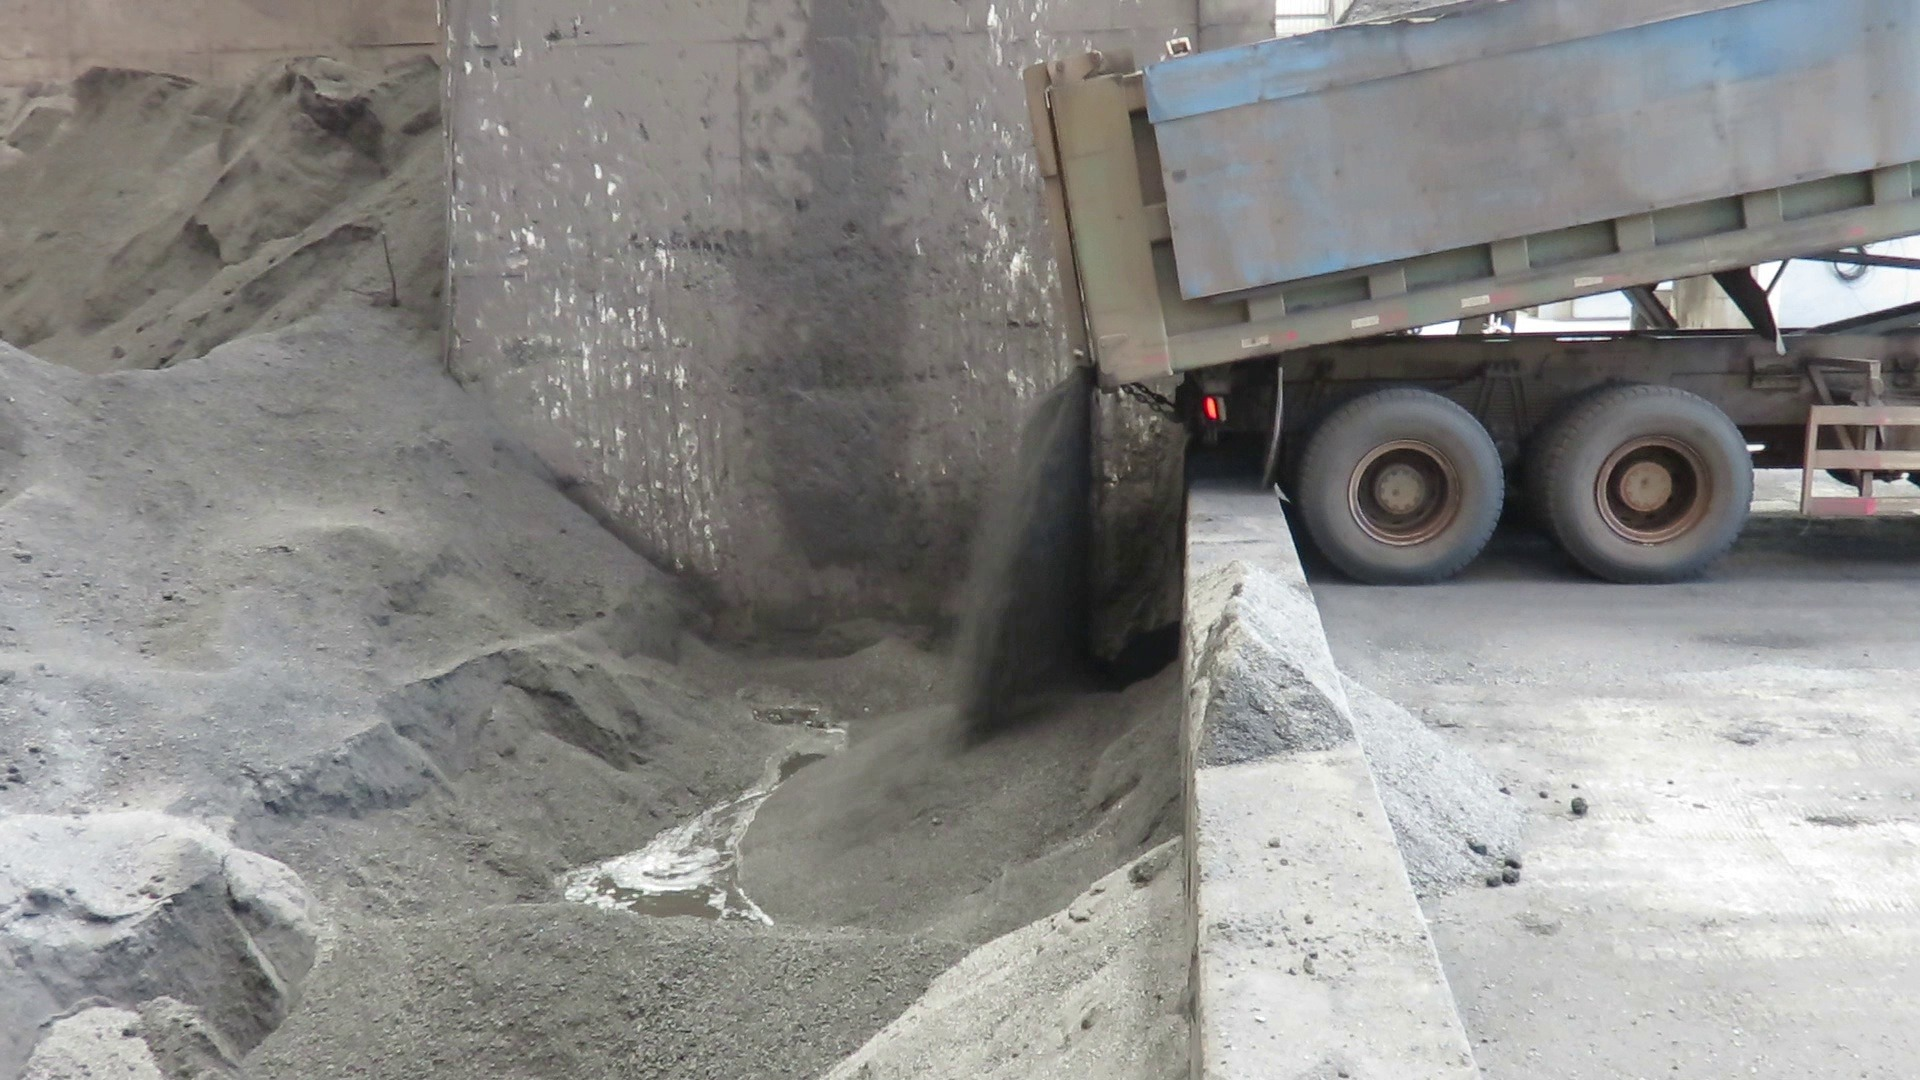truck: (1007, 0, 1920, 608)
